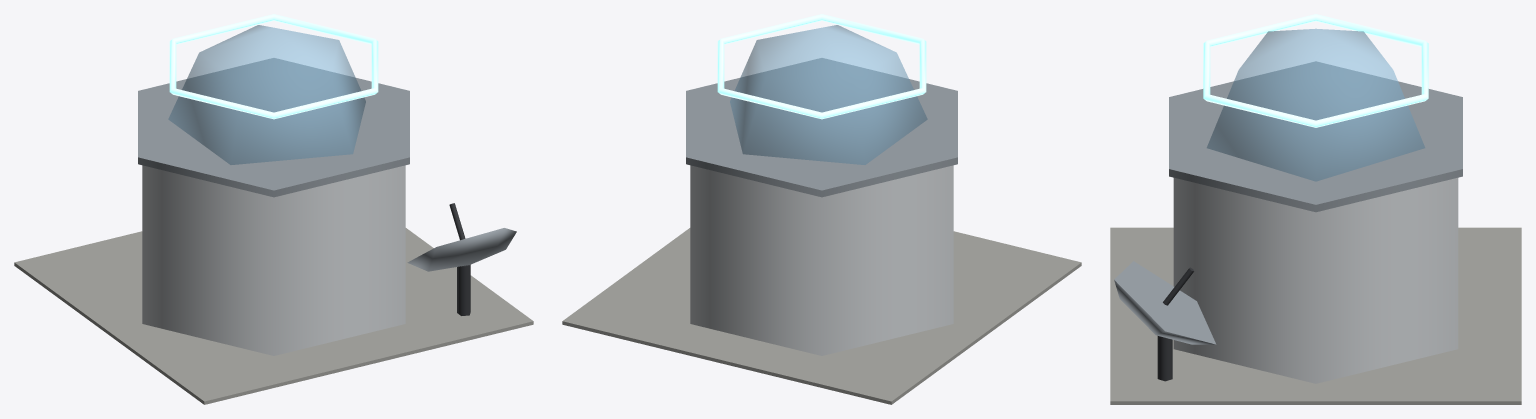
Rendered from bld_special_research_center_a08_lod2.glb.
3 renders of one model, left to right at view 1: azimuth 30°, elevation 25°; view 2: azimuth 150°, elevation 25°; view 3: azimuth 270°, elevation 25°, orthographic. The views are drawn at different scales.
Parts seen in each view (by area): view 1: body, antenna; view 2: body; view 3: body, antenna.
Boxes of the visible parts, x1=… form: body: x1=14, y1=14, x2=533, y2=404; antenna: x1=407, y1=203, x2=516, y2=315; body: x1=562, y1=14, x2=1081, y2=404; body: x1=1110, y1=14, x2=1521, y2=404; antenna: x1=1114, y1=261, x2=1216, y2=381.
Bounding box in the file's own units: 15.4 × 11.65 × 15.
